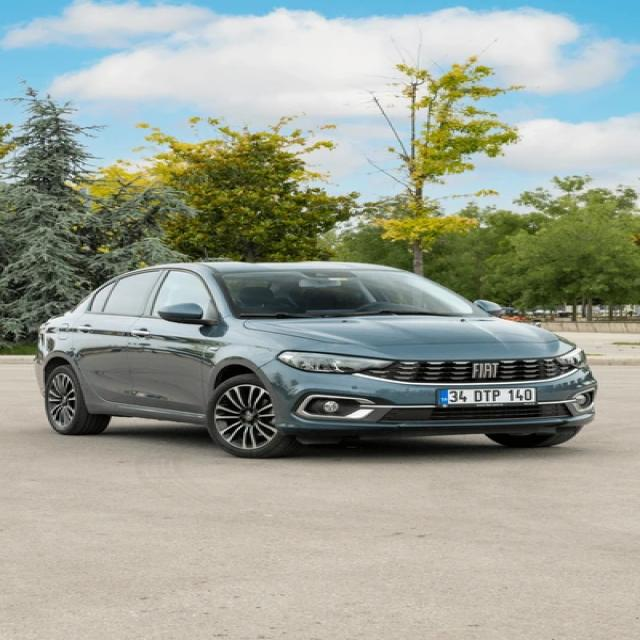fiat: (470, 362, 500, 380)
